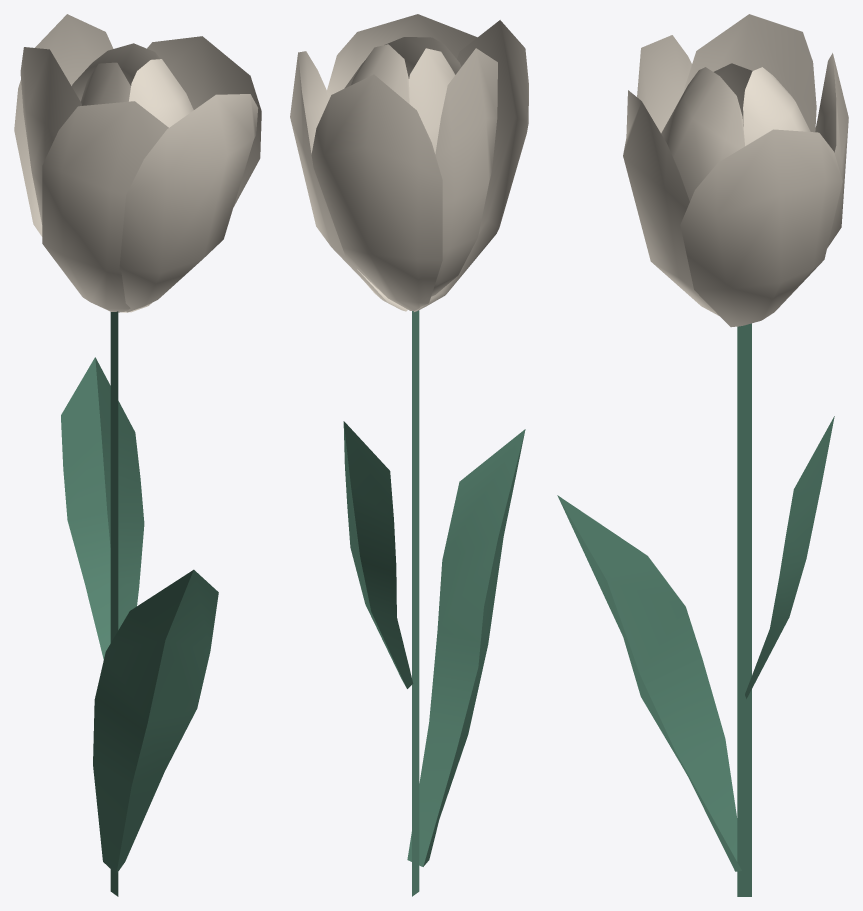
File: SM_Tulip_White.fbx
3 views of the same model, side by side, from view 1: azimuth 30°, elevation 25°; view 2: azimuth 150°, elevation 25°; view 3: azimuth 270°, elevation 25° (orthographic).
Parts seen in each view (by area): view 1: Plane.003, Plane.015, Plane.016, Plane.014; view 2: Plane.003, Plane.015, Plane.016, Plane.014; view 3: Plane.003, Plane.015, Plane.014, Plane.016.
Boxes of the visible parts, box(x1,y1,x2,y2) form: Plane.003: box(14, 14, 261, 312); Plane.015: box(93, 569, 218, 873); Plane.016: box(61, 357, 144, 659); Plane.014: box(110, 311, 118, 896); Plane.003: box(290, 14, 528, 311); Plane.015: box(407, 429, 525, 866); Plane.016: box(343, 421, 413, 688); Plane.014: box(412, 310, 419, 896); Plane.003: box(623, 14, 848, 327); Plane.015: box(557, 495, 741, 871); Plane.014: box(737, 323, 751, 896); Plane.016: box(745, 416, 834, 698).
Bounding box in the file's own units: 9.35 × 35.86 × 11.12.
